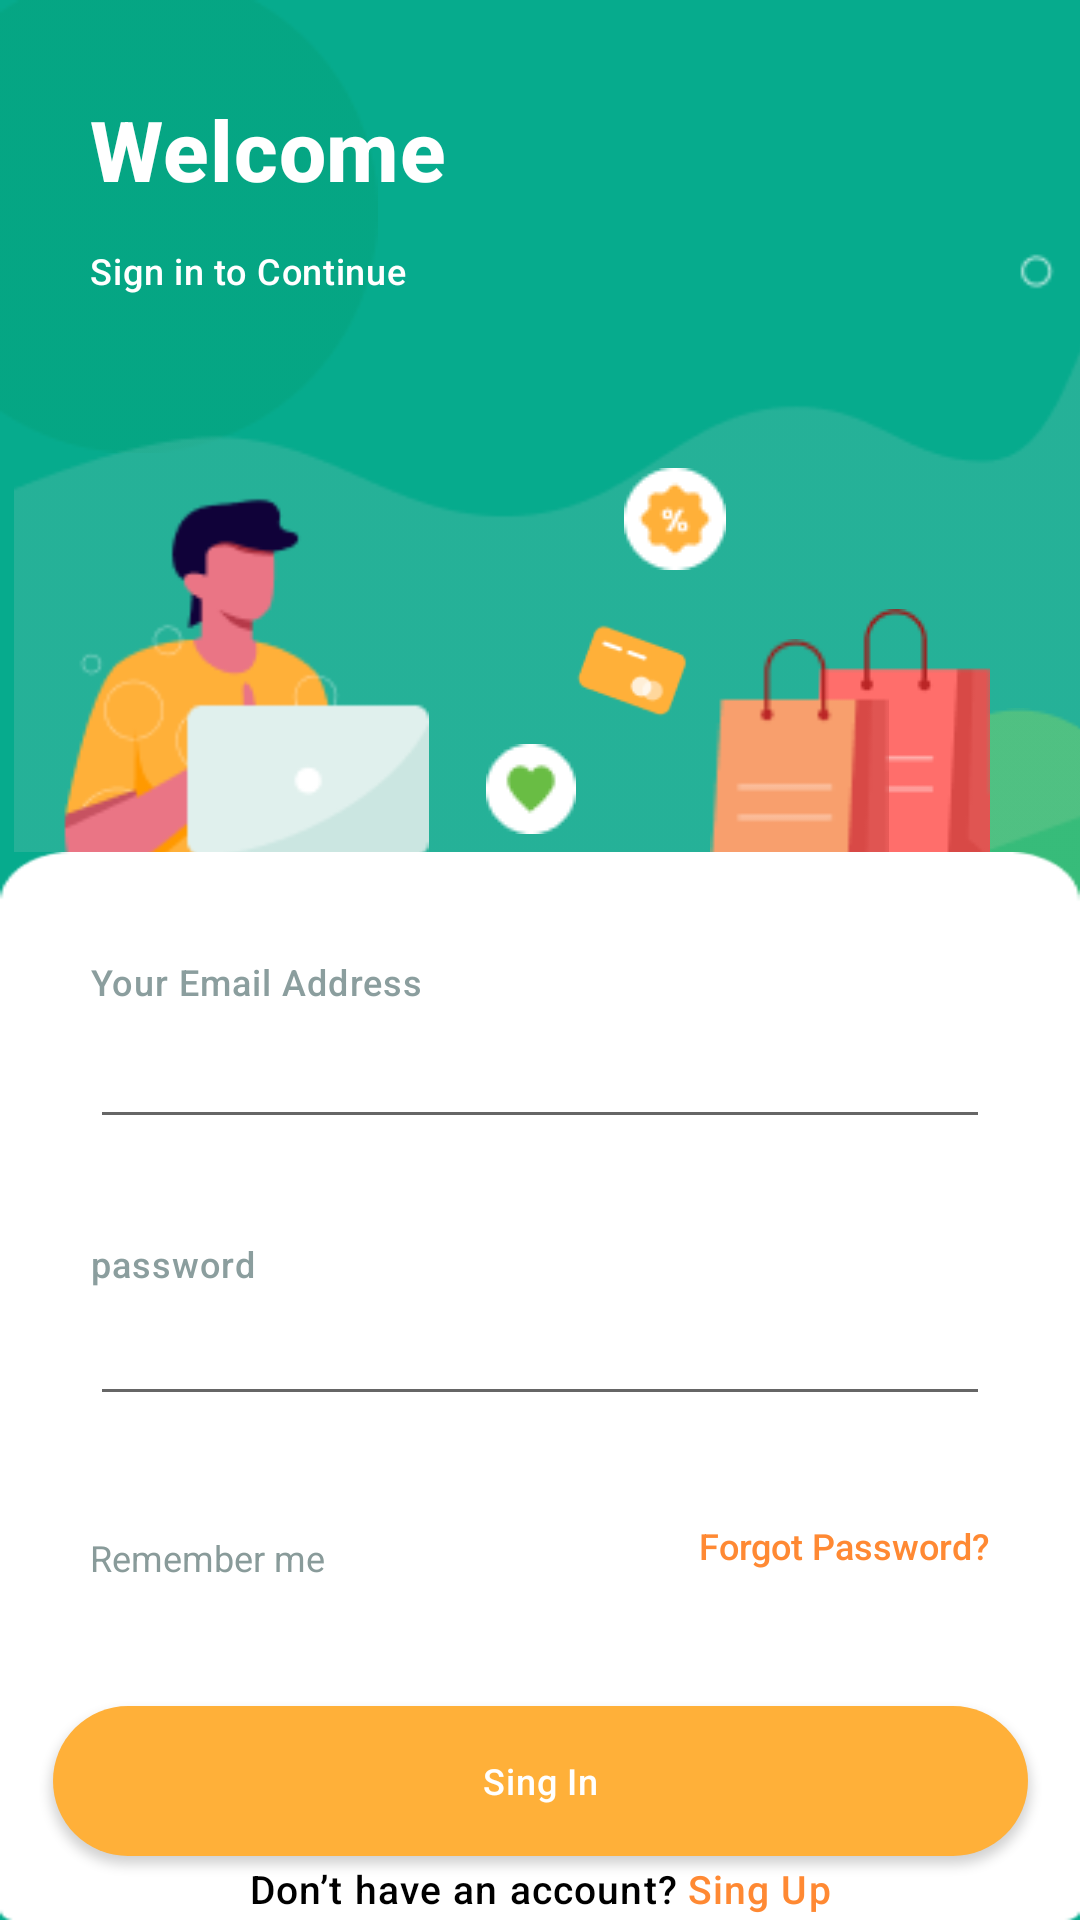

Screen size 1080 × 1920. Icon name, then its center in pixels as point (x, y):
bag: point (898, 733), point (799, 762)
heart: point (531, 789)
percent: point (675, 519)
